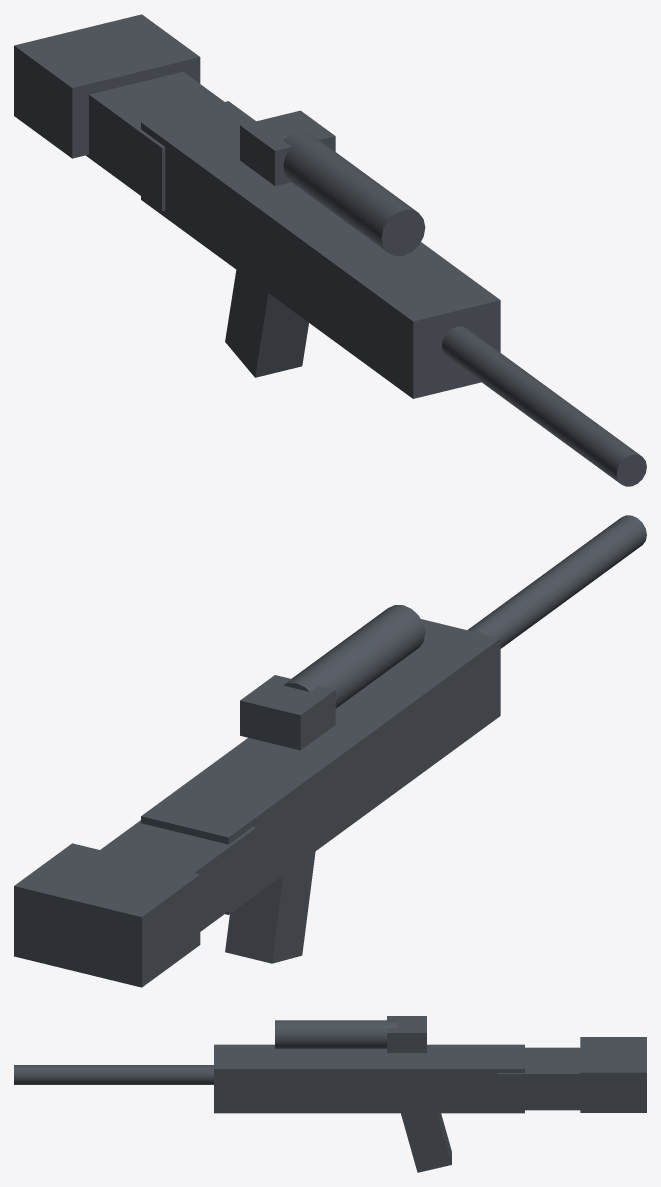
Rendered from sniper_rifle.gltf.
3 renders of one model, top to bottom at view 1: azimuth 30°, elevation 25°; view 2: azimuth 150°, elevation 25°; view 3: azimuth 270°, elevation 25°, orthographic. The views are drawn at different scales.
Visible parts, largest first — view 1: sniper_rifle; view 2: sniper_rifle; view 3: sniper_rifle.
Boxes of the visible parts, x1,y1,x2,y2 form: sniper_rifle: (14,14,646,486); sniper_rifle: (14,515,646,987); sniper_rifle: (14,1016,646,1172).
Bounding box in the file's own units: 0.38 × 0.7192 × 2.85.
